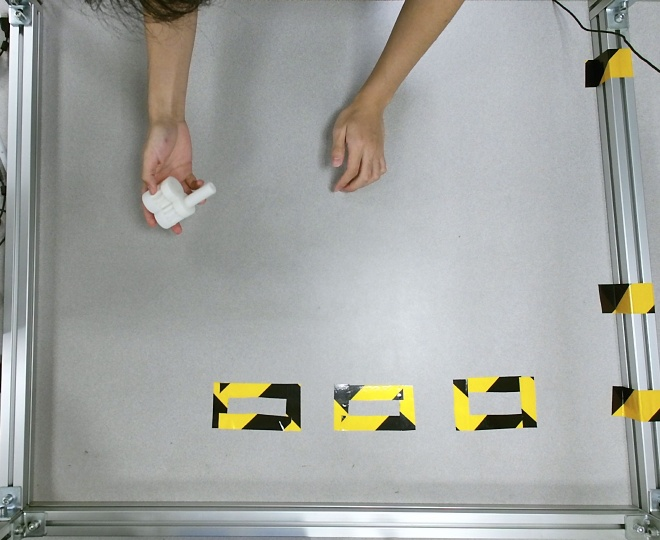stage_4: (141, 176, 216, 227)
